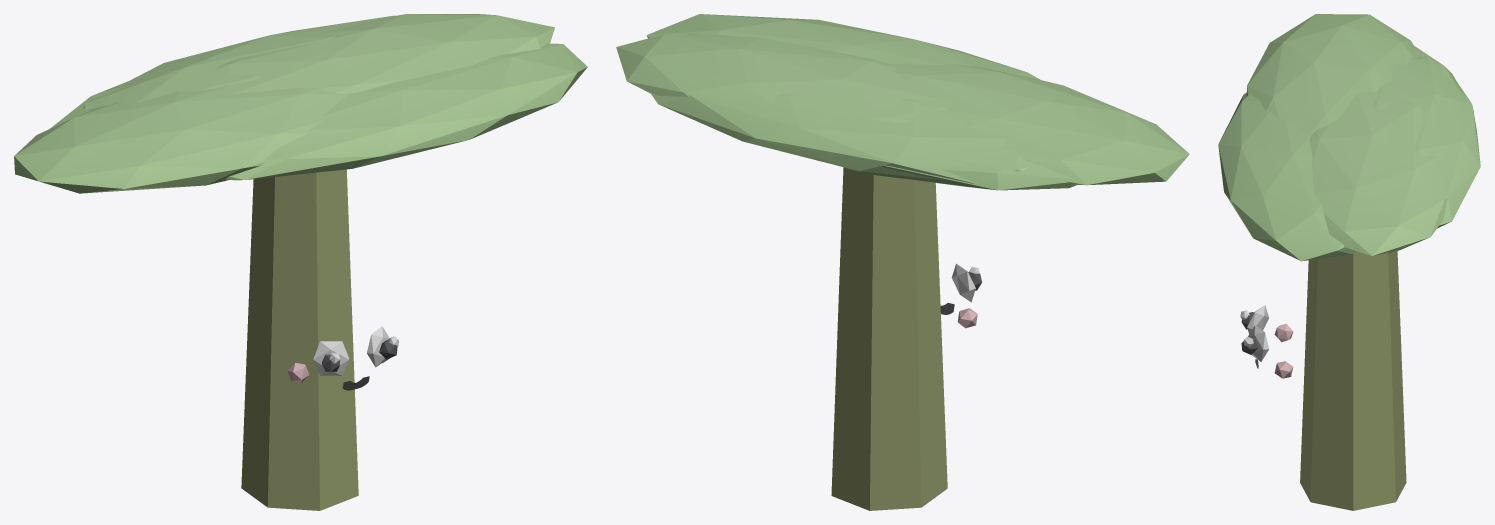
The model's file is heliconia-tortuosa.glb.
3 renders of one model, left to right at view 1: azimuth 30°, elevation 25°; view 2: azimuth 150°, elevation 25°; view 3: azimuth 270°, elevation 25°, orthographic. The views are drawn at different scales.
Visible parts, largest first — view 1: pseudostem, leaf2, leaf1, leaf0, leaf3, pface-eye-r; view 2: pseudostem, leaf2, leaf0, leaf3, leaf1, leaf4; view 3: pseudostem, leaf0, leaf2, leaf1, leaf3, pface-eye-l, leaf4, pface-eye-r.
Boxes of the visible parts, x1,y1,x2,y2 form: pseudostem: (241,169,358,510); leaf2: (14,87,347,193); leaf1: (225,43,587,180); leaf0: (214,14,554,94); leaf3: (83,15,395,110); pface-eye-r: (313,341,349,375); pseudostem: (831,167,947,510); leaf2: (890,63,1189,185); leaf0: (616,34,952,123); leaf3: (650,92,1029,183); leaf1: (647,14,1040,79); leaf4: (848,153,1077,190); pseudostem: (1300,251,1406,510); leaf0: (1309,91,1447,255); leaf2: (1247,14,1413,134); leaf1: (1218,92,1355,261); leaf3: (1373,56,1480,228); pface-eye-l: (1248,325,1268,361); leaf4: (1409,43,1473,112); pface-eye-r: (1247,305,1268,333).
Size of the model in its own units: 0.6235 by 0.4459 by 0.2884.
